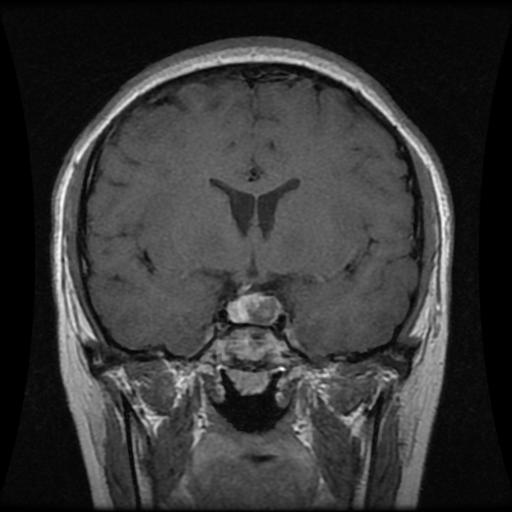Pituirity_tumour: (229, 296, 277, 322)
